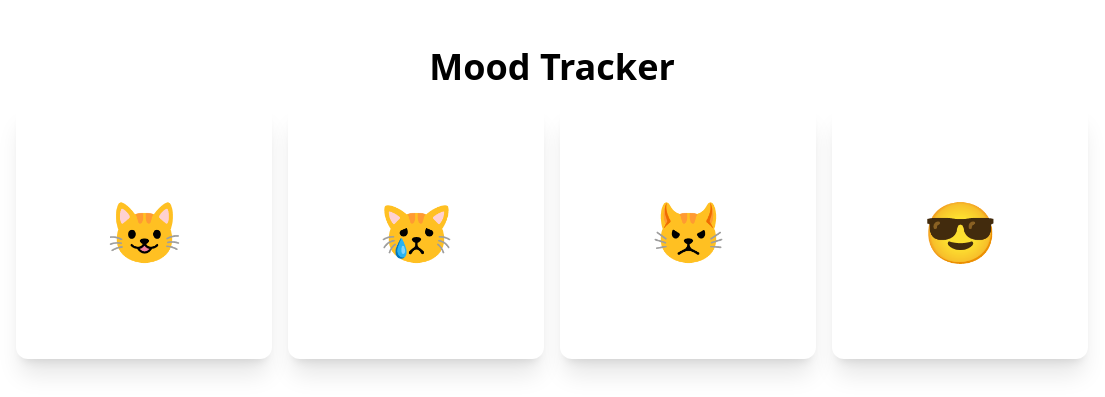
Test: App component › select and submit a mood
# Simule le clic sur l'emoji pour sélectionner une humeur
Click the text "😺".
click(144, 231)  # box [106,190,182,272]
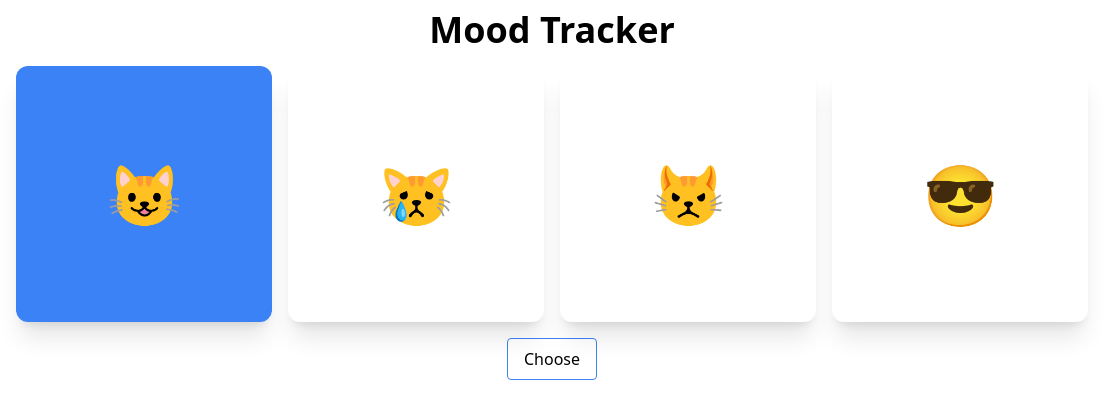
# Simule le clic sur le bouton de soumission
Click the button "Choose".
click(552, 359)  # box [507,338,597,380]
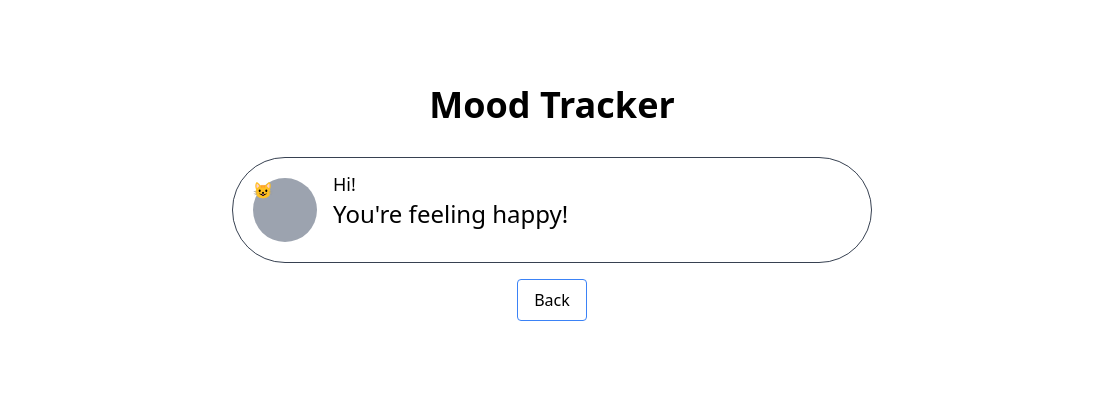
Check: the text "You're feeling happy!" is shown, box [333,198,568,230]
